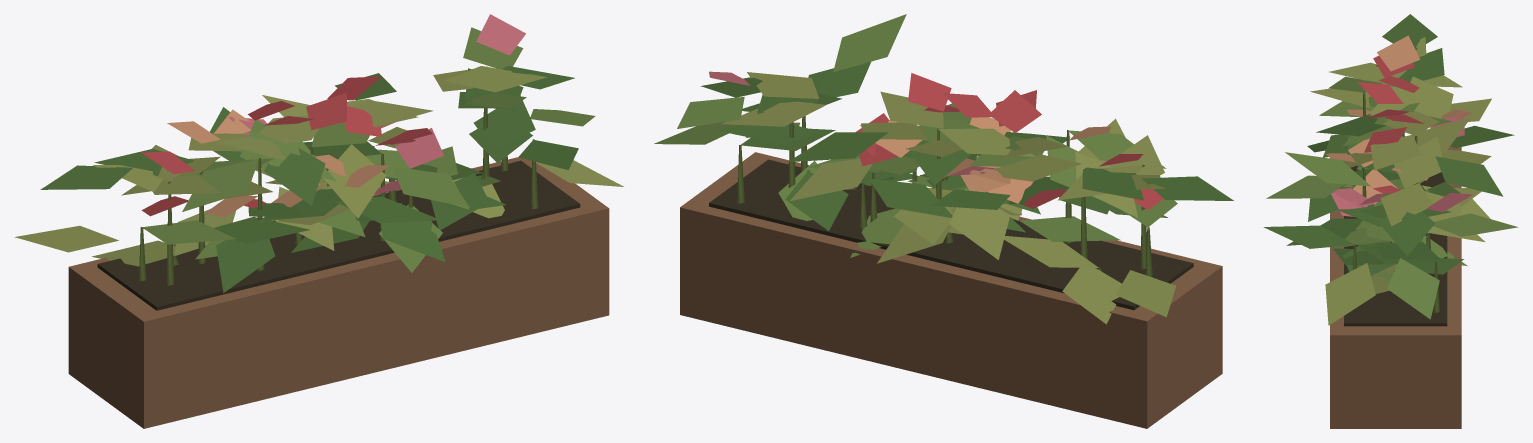
The model's file is window_box.glb.
The picture shows the model from 3 angles, left to right: view 1: azimuth 30°, elevation 25°; view 2: azimuth 150°, elevation 25°; view 3: azimuth 270°, elevation 25°; orthographic projection. The views are drawn at different scales.
Parts seen in each view (by area): view 1: veg_window_box_lod0; view 2: veg_window_box_lod0; view 3: veg_window_box_lod0.
Part boxes in pixels (x1,y1,x2,y2): veg_window_box_lod0: (14,14,623,428); veg_window_box_lod0: (654,14,1233,428); veg_window_box_lod0: (1263,14,1518,428).
Size of what is drawn, in the model's own units: 1.22 by 0.5324 by 0.5451.
